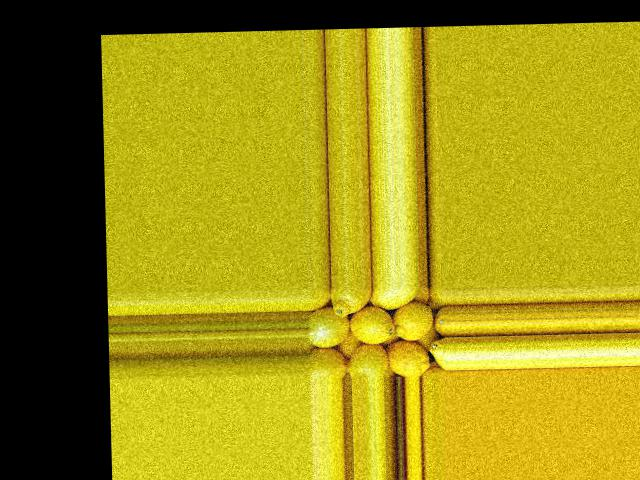lemon: (305, 290, 329, 312)
